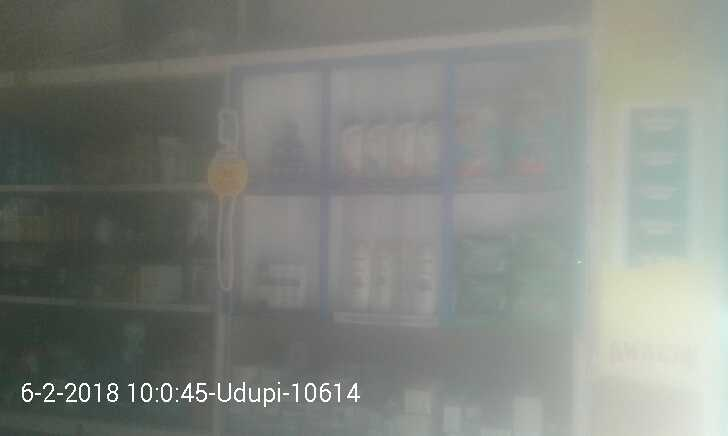beauty: (400, 234, 436, 321), (385, 116, 417, 191), (328, 114, 360, 188), (357, 115, 384, 191), (341, 239, 370, 309), (416, 113, 443, 187), (369, 235, 389, 319)
pharmacy: (495, 101, 576, 187), (441, 97, 498, 184), (509, 277, 568, 341), (514, 218, 574, 278), (456, 267, 507, 326), (452, 234, 512, 273)
